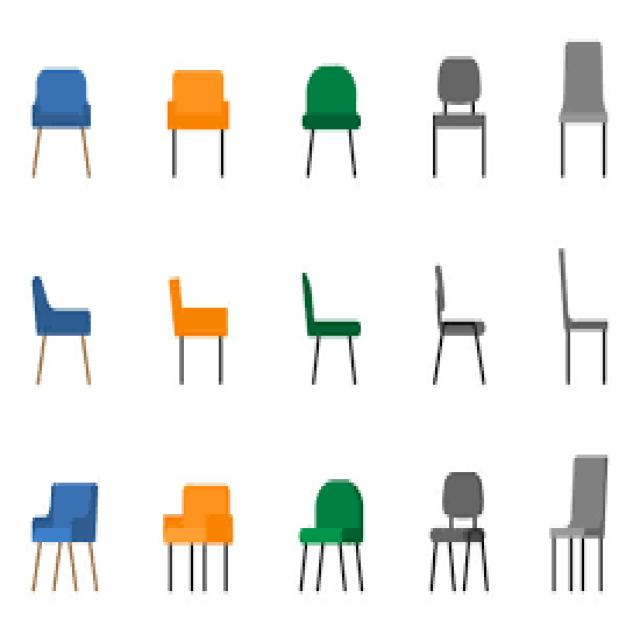chair: (1, 13, 142, 270), (0, 269, 126, 477), (279, 243, 396, 445), (516, 428, 629, 620), (396, 424, 499, 628), (134, 18, 246, 204), (387, 247, 518, 406), (278, 447, 386, 638), (519, 222, 632, 401), (155, 249, 248, 449), (146, 445, 240, 639), (18, 464, 118, 618), (408, 43, 511, 187), (257, 57, 373, 184), (543, 34, 631, 195)
